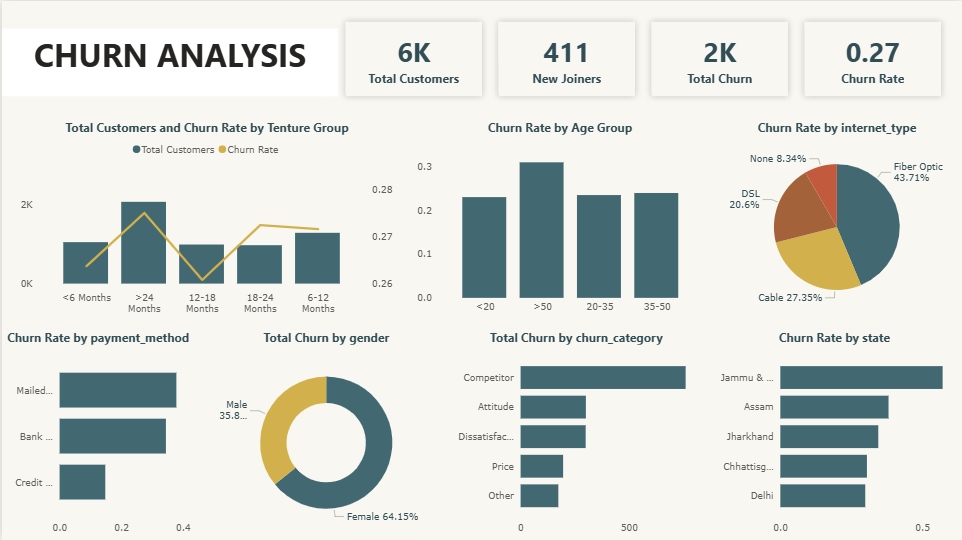

The page's visual inventory and layout, read from the dashboard file:
{"tool":"powerbi","page":{"name":"Page 1","canvas":[1280,720],"ordinal":0},"visuals":[{"type":"cardVisual","fields":{"Data":["tble_measures.Total Customers","tble_measures.New Joiners","tble_measures.Total Churn","tble_measures.Churn Rate"]},"box":[430,0,850,155],"z":0},{"type":"donutChart","fields":{"Category":["prod_churn.gender"],"Y":["tble_measures.Total Churn"]},"box":[273.3,436.7,318.3,283.3],"z":1000},{"type":"lineStackedColumnComboChart","fields":{"Category":["Mapping_AgeGrp.Age Group"],"Y":["tble_measures.Churn Rate"]},"box":[548.3,156.7,391.7,268.3],"z":2000},{"type":"clusteredBarChart","fields":{"Category":["prod_churn.payment_method"],"Y":["tble_measures.Churn Rate"]},"box":[0,436.7,256.7,283.3],"z":3000},{"type":"lineStackedColumnComboChart","fields":{"Category":["Mapping_tentureGrp.Tenture Group "],"Y":["tble_measures.Total Customers"],"Y2":["tble_measures.Churn Rate"]},"box":[20,156.7,506.7,268.3],"z":4000},{"type":"clusteredBarChart","fields":{"Category":["prod_churn.state"],"Y":["tble_measures.Churn Rate"]},"box":[940,436.7,340,283.3],"z":5000},{"type":"clusteredBarChart","fields":{"Category":["prod_churn.churn_category"],"Y":["tble_measures.Total Churn"]},"box":[591.7,436.7,348.3,283.3],"z":6000},{"type":"pieChart","fields":{"Category":["prod_churn.internet_type"],"Y":["tble_measures.Churn Rate"]},"box":[958.3,156.7,310,268.3],"z":7000},{"type":"textbox","box":[0,36.7,448.3,90],"z":8000}]}

Visuals, with their boxes in screenshot pixels (x1, y1, x2, y2), scaled from the page's 1280x720 canvas onto the 962x540 screenshot:
cardVisual - tble_measures.Total Customers x tble_measures.New Joiners: [x1=323, y1=0, x2=961, y2=116]
donutChart - prod_churn.gender x tble_measures.Total Churn: [x1=205, y1=328, x2=445, y2=539]
lineStackedColumnComboChart - Mapping_AgeGrp.Age Group x tble_measures.Churn Rate: [x1=412, y1=118, x2=706, y2=319]
clusteredBarChart - prod_churn.payment_method x tble_measures.Churn Rate: [x1=0, y1=328, x2=193, y2=539]
lineStackedColumnComboChart - Mapping_tentureGrp.Tenture Group  x tble_measures.Total Customers: [x1=15, y1=118, x2=396, y2=319]
clusteredBarChart - prod_churn.state x tble_measures.Churn Rate: [x1=706, y1=328, x2=961, y2=539]
clusteredBarChart - prod_churn.churn_category x tble_measures.Total Churn: [x1=445, y1=328, x2=706, y2=539]
pieChart - prod_churn.internet_type x tble_measures.Churn Rate: [x1=720, y1=118, x2=953, y2=319]
textbox: [x1=0, y1=28, x2=337, y2=95]
